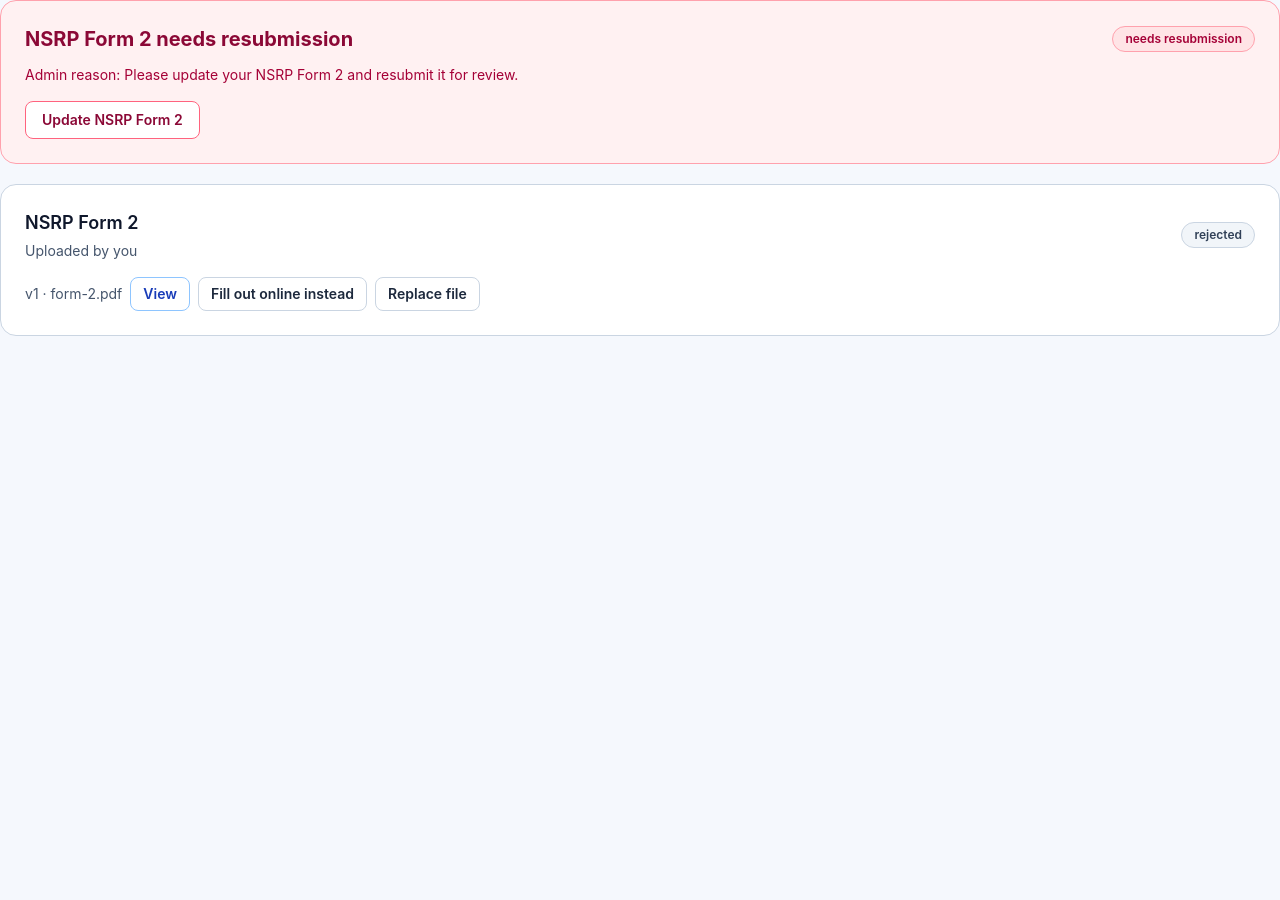
employer verification page › opens file replacement in the same modal shell
Expected: the heading "NSRP Form 2 needs resubmission" is shown, [25, 25, 353, 53]
Click the button "Replace file". click: [427, 294]
box: [375, 277, 480, 311]
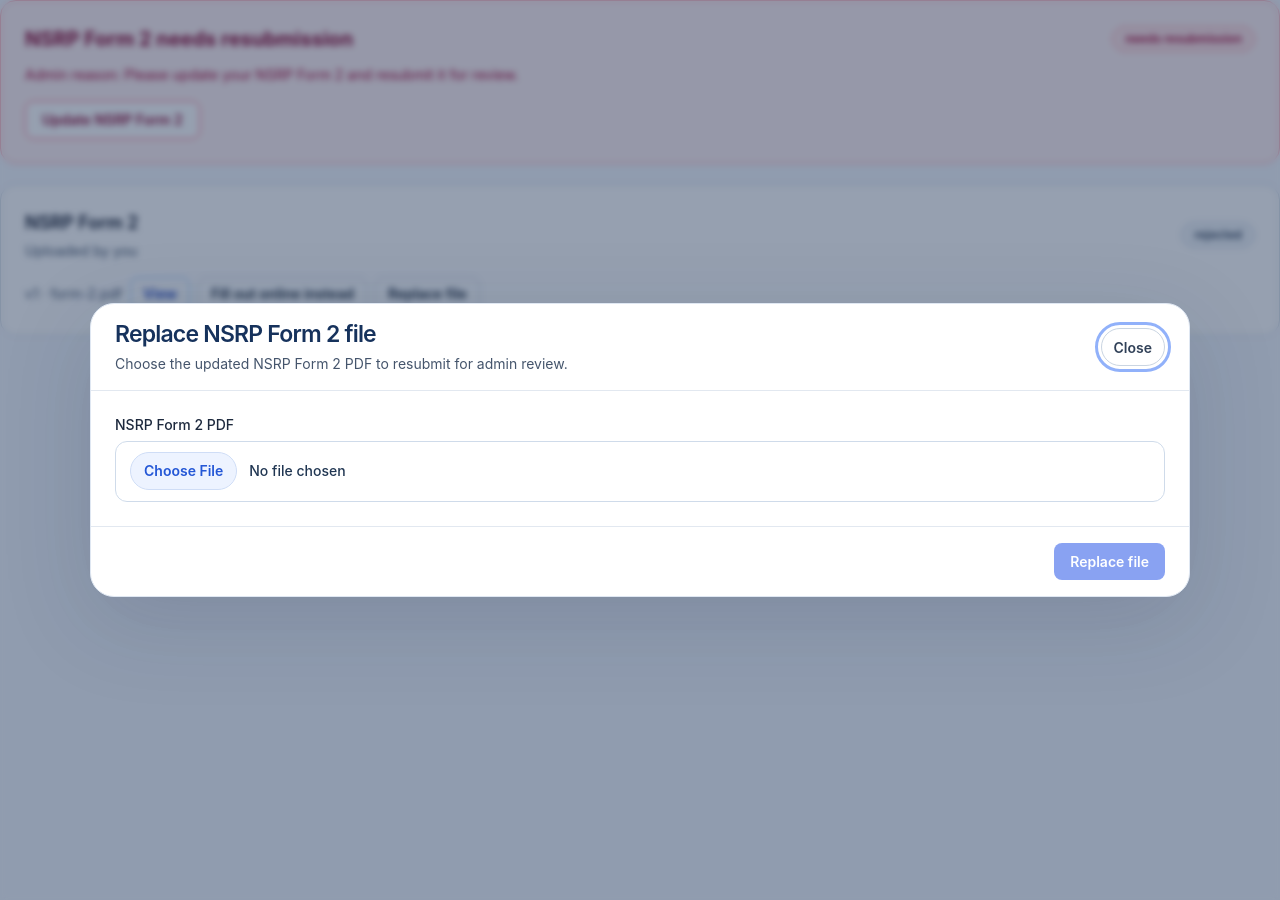
Expected: the heading "Replace NSRP Form 2 file" is shown, [115, 320, 376, 348]
Expected: the element with test id "overlay-modal-footer" is shown, [91, 526, 1189, 596]
Expected: the file field labelled "NSRP Form 2 PDF" is shown, [115, 441, 1165, 502]
